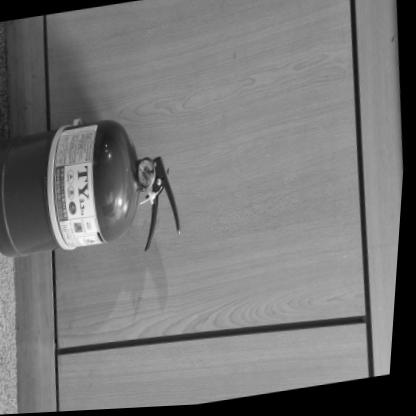FE: (0, 109, 192, 276)
